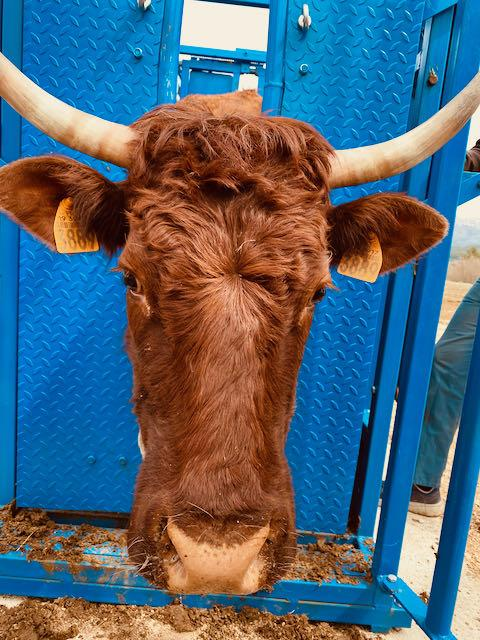muzzles: (119, 497, 298, 602)
